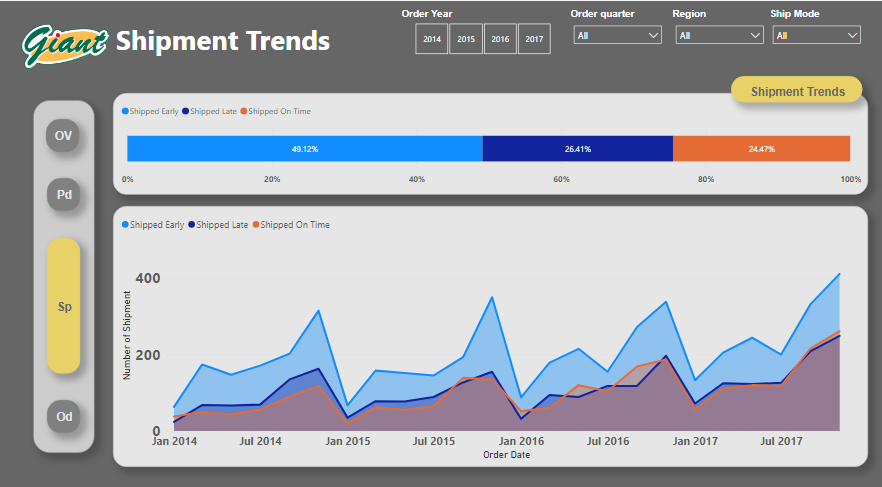

The page's visual inventory and layout, read from the dashboard file:
{"tool":"powerbi","page":{"name":"Shipping","canvas":[1280,720],"ordinal":3},"visuals":[{"type":"hundredPercentStackedBarChart","fields":{"Y":["Divide(CountNonNull(Sample - Superstore.Order ID), ScopedEval(CountNonNull(Sample - Superstore.Order ID), []))"],"Series":["Sample - Superstore.Ship Status"]},"box":[140.6,134.7,1113.6,150.1],"z":0,"group":"g1"},{"type":"shape","box":[21.4,146,91.1,521],"z":0},{"type":"actionButton","box":[140.2,20.3,546.5,69.5],"z":1000},{"type":"actionButton","box":[1051.8,110.3,194.4,39.1],"z":1000,"group":"g1"},{"type":"shape","box":[41.8,173.6,49.1,49],"z":2000},{"type":"shape","box":[43,261.6,49.1,49],"z":3000},{"type":"slicer","title":"Region","fields":{"Values":["Sample - Superstore.Region"]},"box":[961.1,10.1,149.8,69.8],"z":4000},{"type":"shape","box":[42.8,349.6,48.9,200.5],"z":5000},{"type":"shape","box":[43,589.2,49.1,49.1],"z":6000},{"type":"areaChart","fields":{"Y":["CountNonNull(Sample - Superstore.Order ID)"],"Series":["Sample - Superstore.Ship Status"],"Category":["Sample - Superstore.Order Date (bins)"]},"box":[140.6,303.1,1113.6,385.1],"z":8000},{"type":"group","id":"g1","title":"Group 1","box":[140.6,110.3,1113.6,174.6],"z":9000},{"type":"image","box":[0,0,140.6,134.5],"z":10000},{"type":"slicer","title":"Order Year","fields":{"Values":["Sample - Superstore.Year"]},"box":[561.1,9.8,249.4,74.6],"z":11000},{"type":"slicer","title":"Order quarter","fields":{"Values":["Sample - Superstore.Order Date.Variation.Date Hierarchy.Quarter"]},"box":[810.5,9.8,150.3,69.7],"z":12000},{"type":"slicer","title":"Ship Mode","fields":{"Values":["Sample - Superstore.Ship Mode"]},"box":[1103.8,9.8,150.3,69.7],"z":13000}]}

Visuals, with their boxes in screenshot pixels (x1, y1, x2, y2), scaled from the page's 1280x720 canvas onto the 882x487 screenshot:
hundredPercentStackedBarChart - Divide(CountNonNull(Sample - Superstore.Order ID), ScopedEval(CountNonNull(Sample - Superstore.Order ID), [])) x Sample - Superstore.Ship Status: (x1=97, y1=91, x2=864, y2=193)
shape: (x1=15, y1=99, x2=78, y2=451)
actionButton: (x1=97, y1=14, x2=473, y2=61)
actionButton: (x1=725, y1=75, x2=859, y2=101)
shape: (x1=29, y1=117, x2=63, y2=151)
shape: (x1=30, y1=177, x2=63, y2=210)
"Region" slicer: (x1=662, y1=7, x2=765, y2=54)
shape: (x1=29, y1=236, x2=63, y2=372)
shape: (x1=30, y1=399, x2=63, y2=432)
areaChart - CountNonNull(Sample - Superstore.Order ID) x Sample - Superstore.Ship Status: (x1=97, y1=205, x2=864, y2=465)
"Group 1" group: (x1=97, y1=75, x2=864, y2=193)
image: (x1=0, y1=0, x2=97, y2=91)
"Order Year" slicer: (x1=387, y1=7, x2=558, y2=57)
"Order quarter" slicer: (x1=558, y1=7, x2=662, y2=54)
"Ship Mode" slicer: (x1=761, y1=7, x2=864, y2=54)
